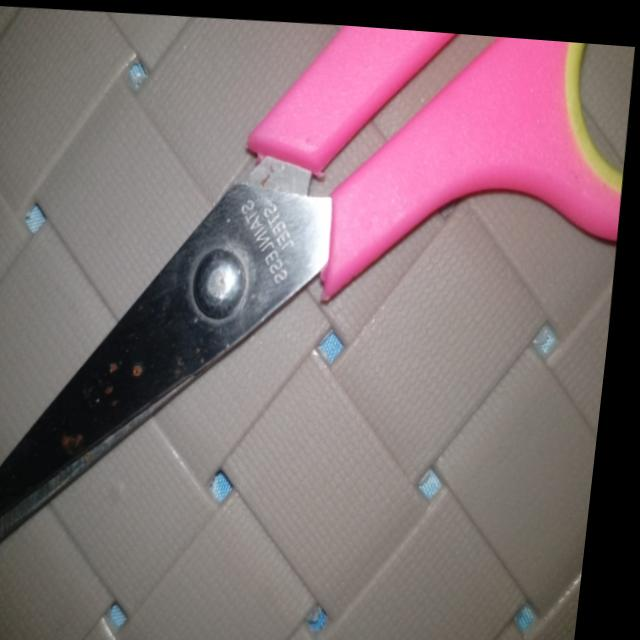scissor: (0, 0, 640, 620)
